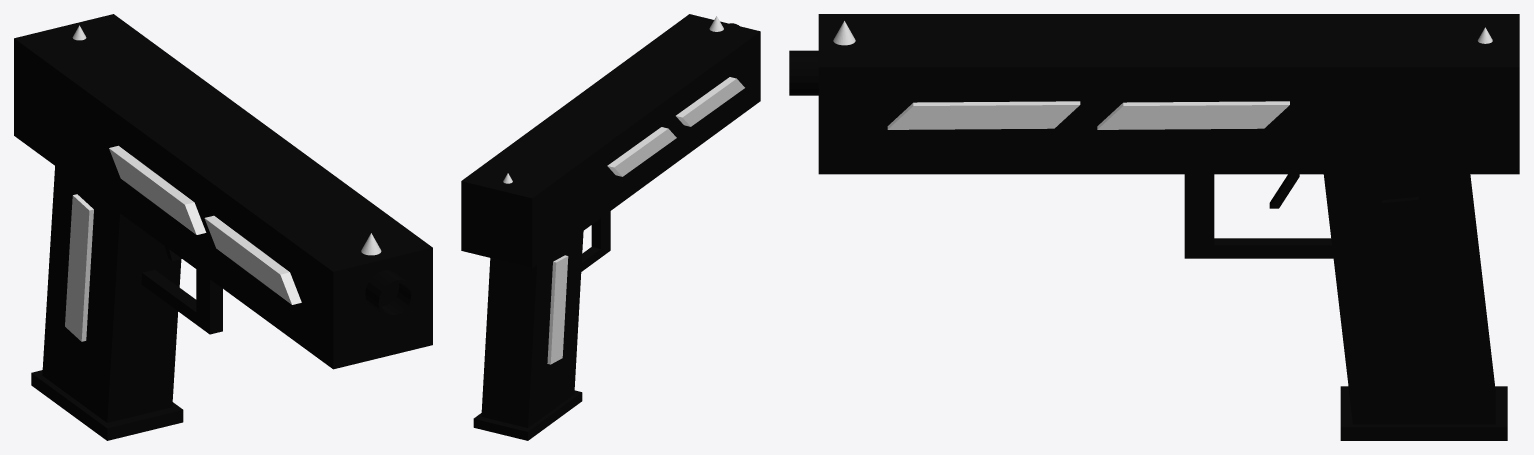
File: WeaponModel.fbx
3 renders of one model, left to right at view 1: azimuth 30°, elevation 25°; view 2: azimuth 150°, elevation 25°; view 3: azimuth 270°, elevation 25°, orthographic. The views are drawn at different scales.
Visible parts, largest first — view 1: Default; view 2: Default; view 3: Default.
Boxes of the visible parts, <box> form: Default: <box>14,14,432,440</box>; Default: <box>461,14,760,440</box>; Default: <box>789,14,1519,440</box>.
Size of the model in its own units: 1.76 by 5.29 by 8.75.
2 materials, 1 textured.
